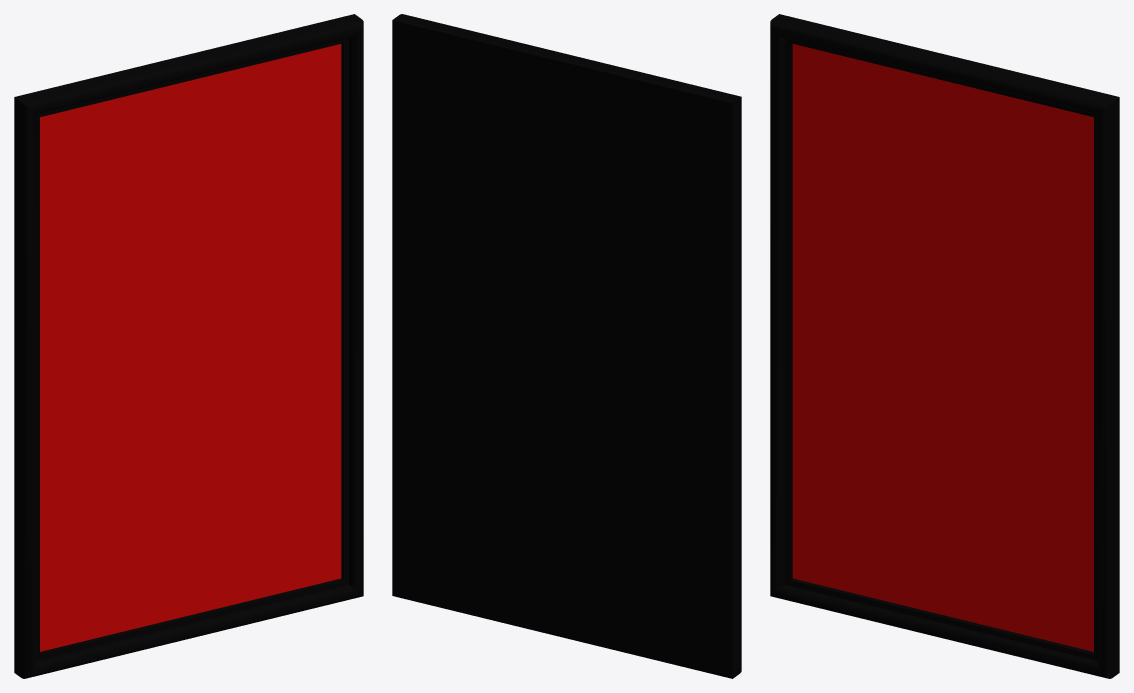
The model's file is FramedPicture_Vertical.fbx.
The picture shows the model from 3 angles, left to right: view 1: azimuth 30°, elevation 25°; view 2: azimuth 150°, elevation 25°; view 3: azimuth 330°, elevation 25°; orthographic projection.
Parts seen in each view (by area): view 1: picture1_vertical; view 2: picture1_vertical; view 3: picture1_vertical.
Boxes of the visible parts, x1,y1,x2,y2 form: picture1_vertical: [14, 14, 363, 678]; picture1_vertical: [392, 14, 741, 678]; picture1_vertical: [770, 14, 1119, 678].
Bounding box in the file's own units: 32.83 × 53.04 × 2.02.
